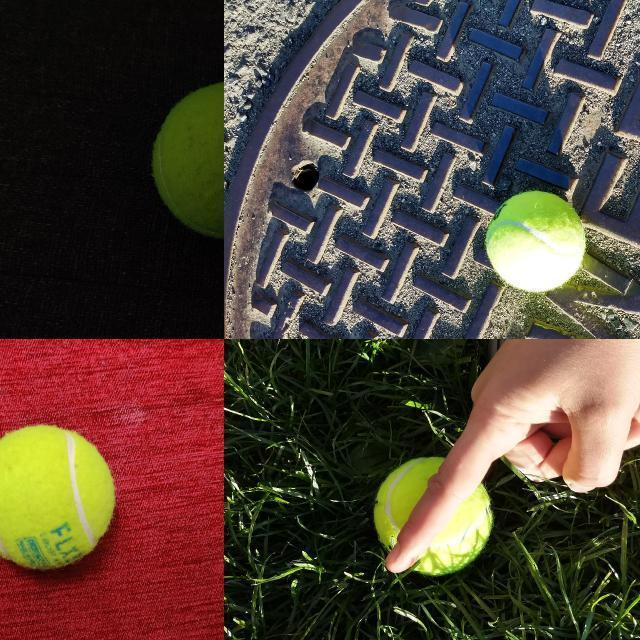tennis-ball: (0, 423, 117, 571), (374, 456, 493, 575), (150, 81, 223, 239), (485, 190, 586, 293)
